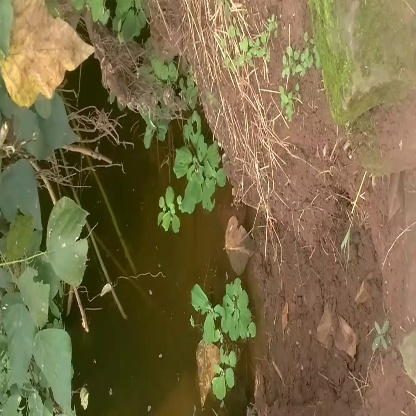leaf: (42, 200, 98, 297)
